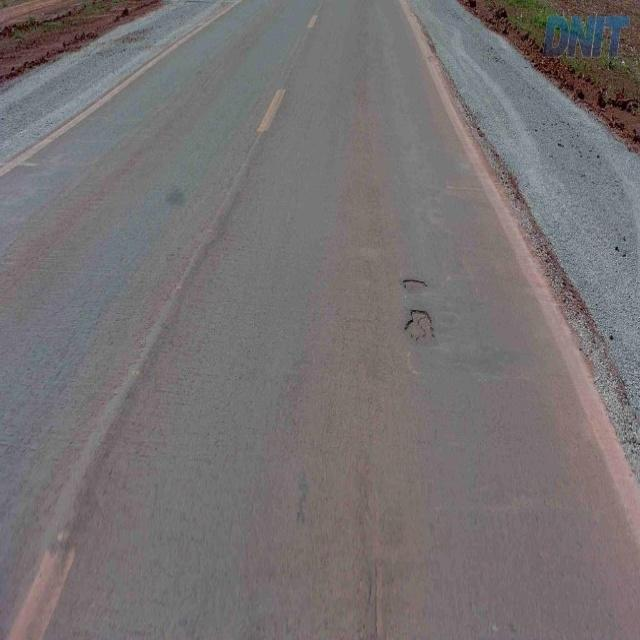pothole: (401, 304, 438, 344), (396, 276, 432, 294)
